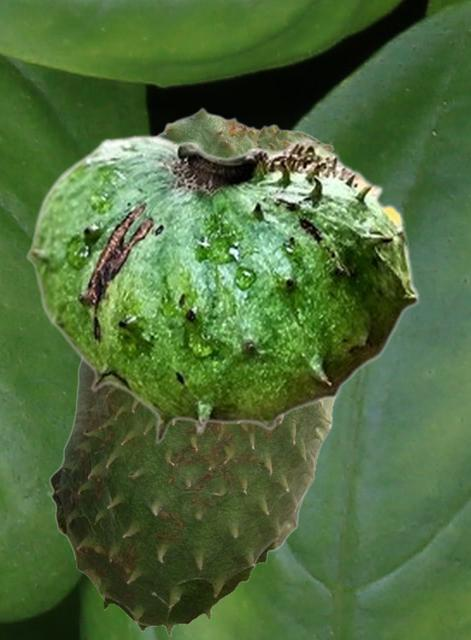guyabano: (46, 106, 337, 635), (26, 134, 419, 444)
